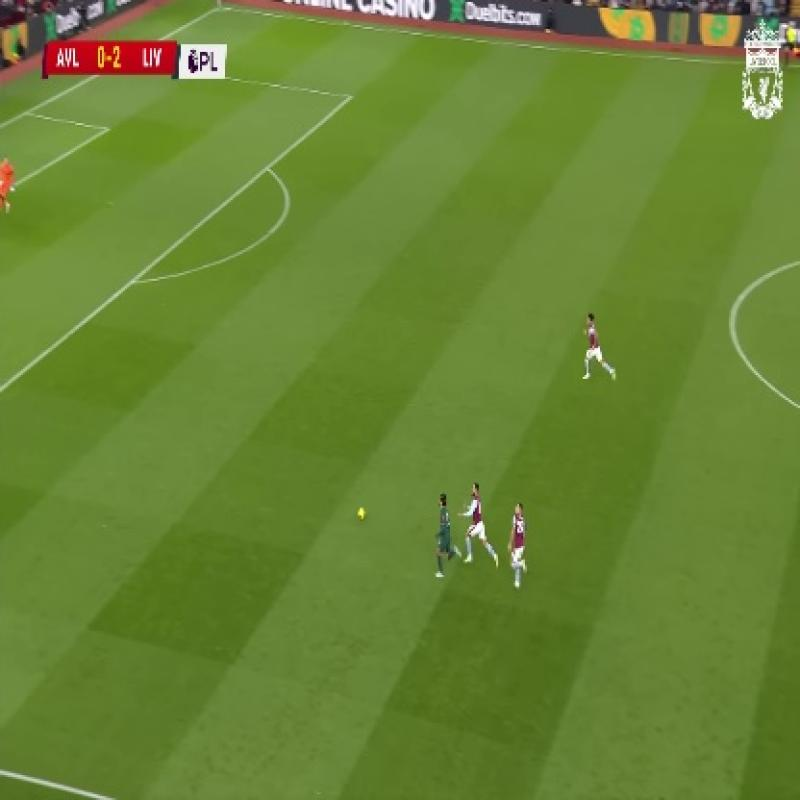1: (207, 0, 230, 15)
10: (256, 154, 275, 179)
11: (121, 266, 144, 294)
3: (16, 96, 36, 125)
7: (94, 114, 118, 142)
9: (340, 82, 360, 108)
c: (718, 292, 748, 342)
